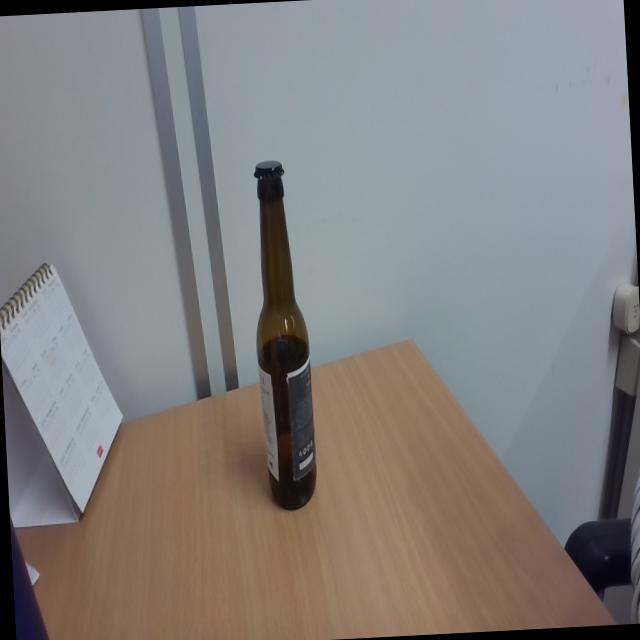Bottle: (247, 158, 320, 513)
Cap: (250, 160, 288, 182)
Label: (258, 358, 316, 484)
